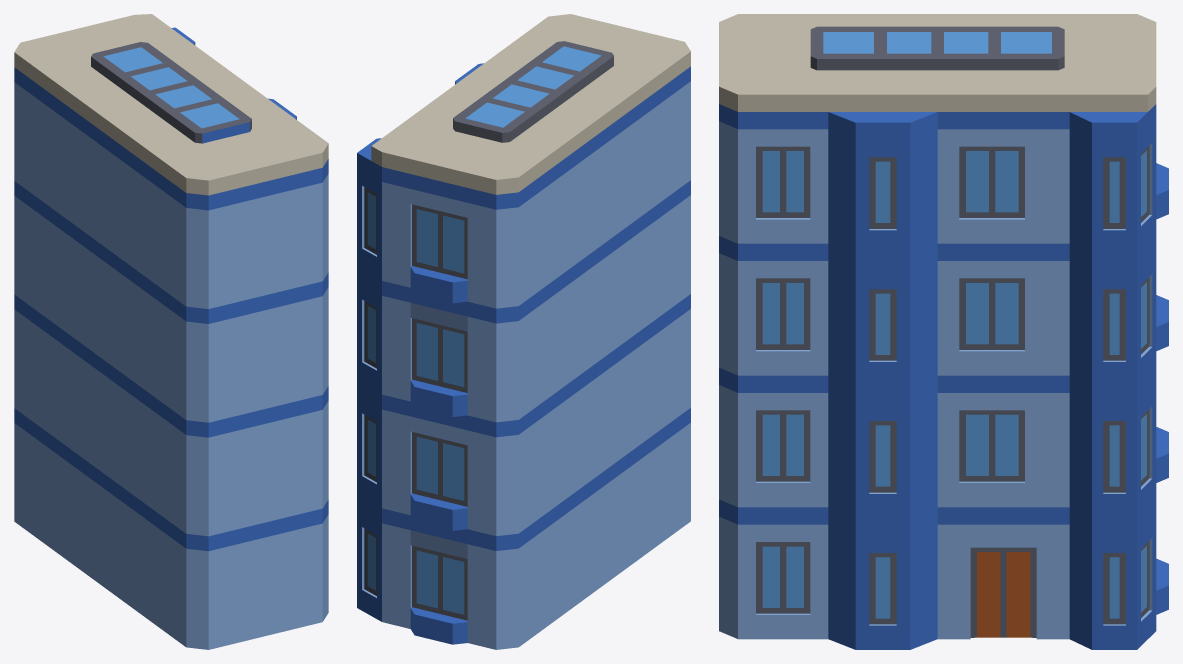
The picture shows the model from 3 angles, left to right: view 1: azimuth 30°, elevation 25°; view 2: azimuth 150°, elevation 25°; view 3: azimuth 270°, elevation 25°; orthographic projection. The views are drawn at different scales.
Parts seen in each view (by area): view 1: predio 5.001; view 2: predio 5.001; view 3: predio 5.001.
Part boxes in pixels (<box>): predio 5.001: <box>14,14,328,649</box>; predio 5.001: <box>357,14,690,649</box>; predio 5.001: <box>719,14,1168,649</box>.
Size of the model in its own units: 3400 by 9643 by 7071.
